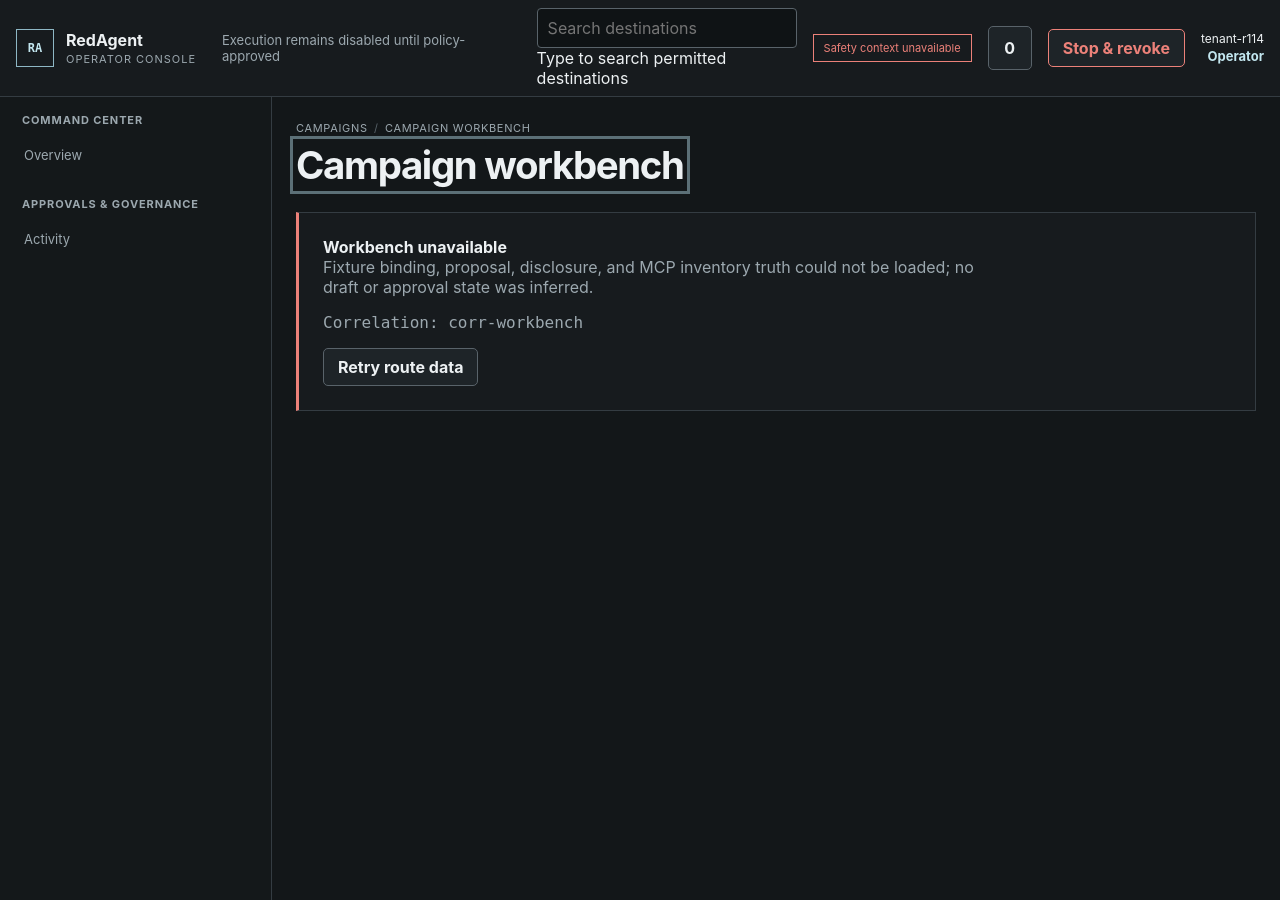
Test case: projects a correlated Workbench outage and retries without inferring draft state
Expected: the message "Workbench unavailable" is shown, left=296, top=212, right=1256, bottom=411
Expected: the text "Correlation: corr-workbench" is shown, left=323, top=313, right=583, bottom=332
Step 1. Click the button "Retry route data" → point(401, 367), box left=323, top=348, right=478, bottom=386
(page scrolled)
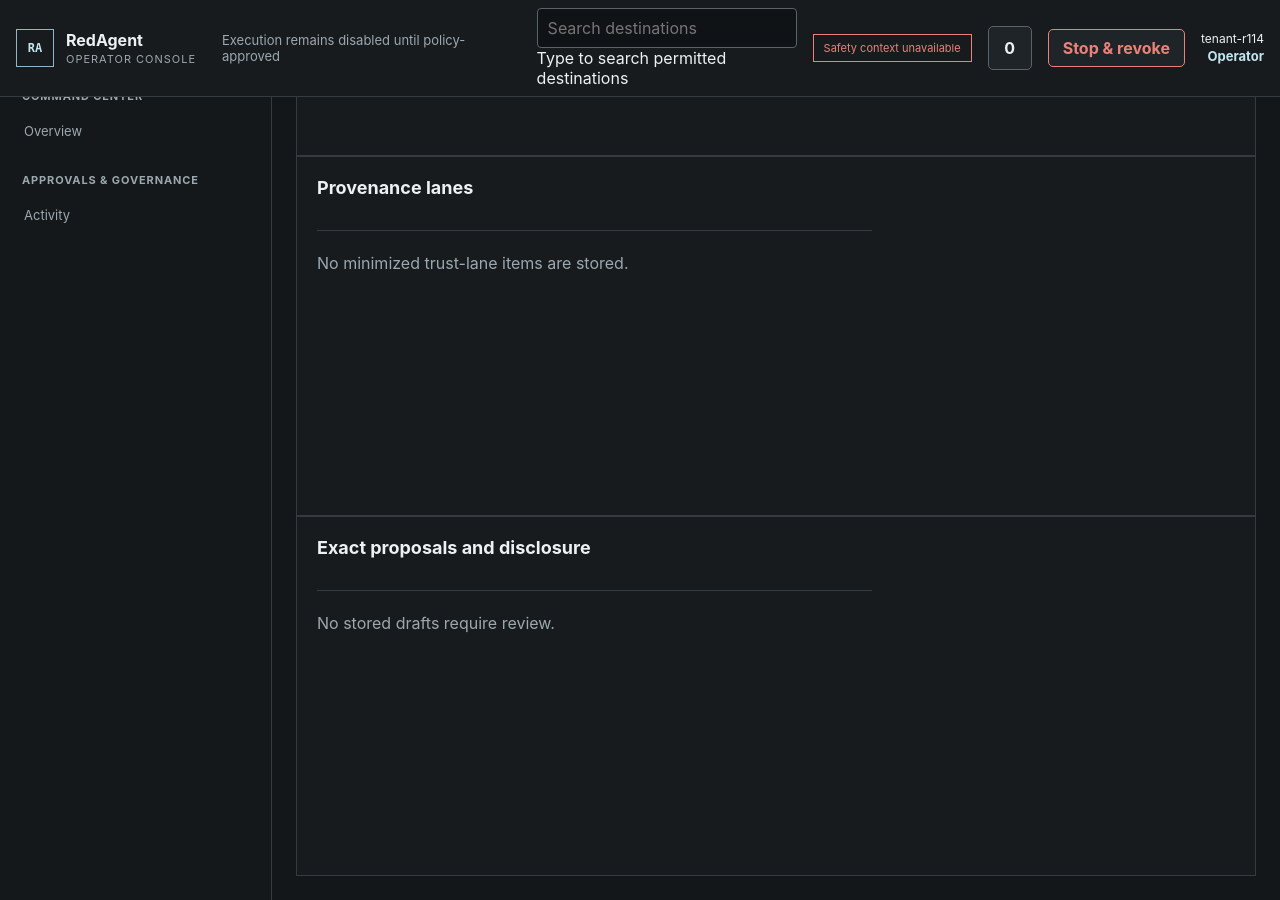
Expected: the text "No stored drafts require review." is shown, left=317, top=590, right=872, bottom=655
